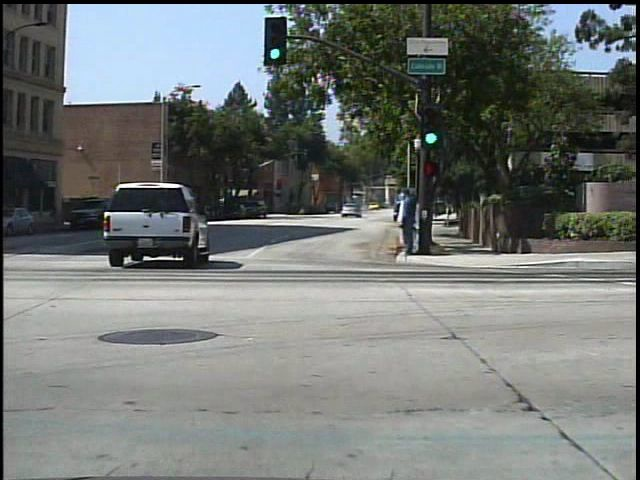person: (398, 185, 419, 256), (395, 191, 415, 256), (296, 201, 308, 216)
